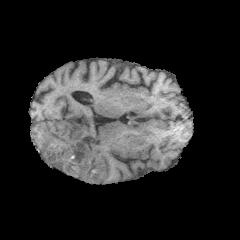glioma: (41, 130, 107, 181)
